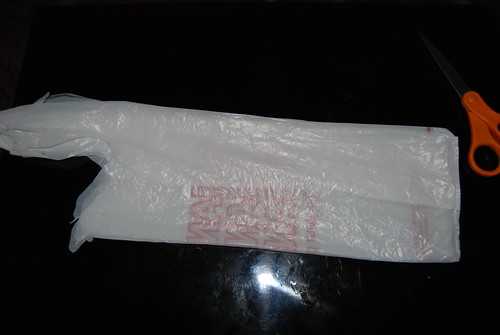plastic bag: (1, 91, 463, 262)
